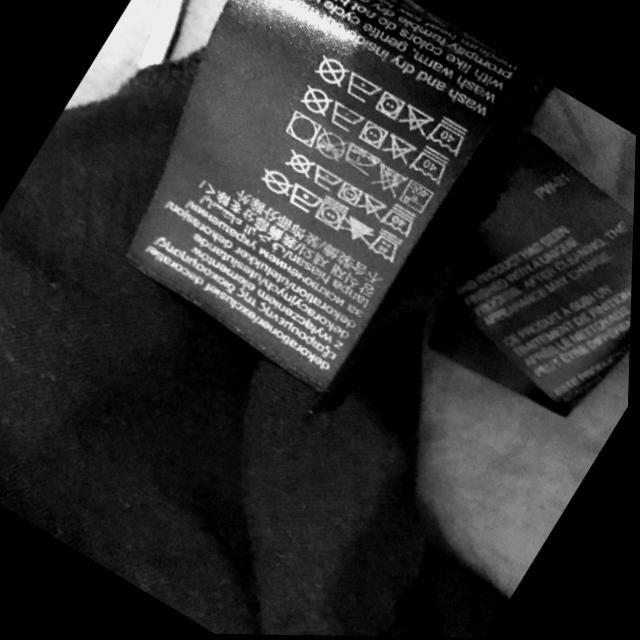40C: (428, 111, 466, 156), (409, 143, 445, 185), (368, 228, 405, 267), (380, 205, 418, 234), (400, 179, 432, 212)
DN_bleach: (384, 131, 414, 167), (375, 162, 406, 196), (341, 214, 372, 247), (402, 103, 433, 134), (358, 193, 385, 220)
DN_dry_clean: (313, 54, 348, 89), (297, 86, 333, 117), (256, 167, 288, 198), (282, 149, 313, 179)
iron_low: (343, 69, 378, 106), (343, 140, 381, 174), (326, 100, 365, 133), (286, 184, 322, 213), (311, 163, 343, 190)
tumble_dry_medium: (312, 196, 348, 232), (370, 91, 406, 121), (356, 121, 390, 150), (335, 182, 362, 206)
tumble_dry_normal: (281, 110, 319, 149)
